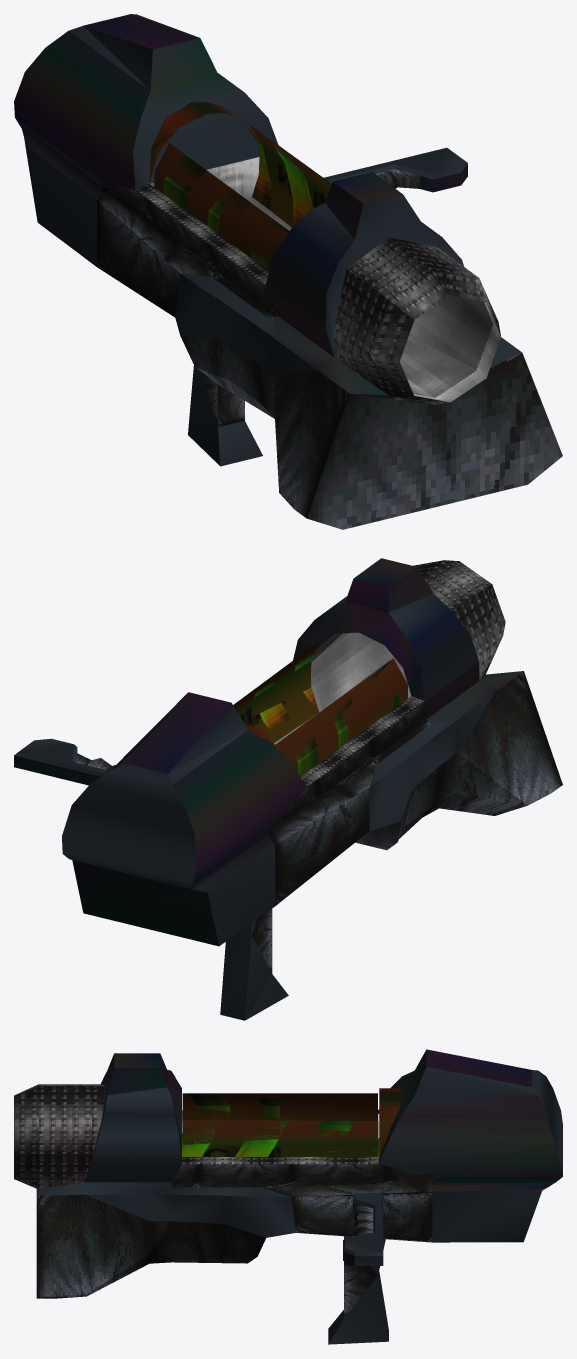
File: 17-rocket-launcher-fp.glb
The picture shows the model from 3 angles, top to bottom: view 1: azimuth 30°, elevation 25°; view 2: azimuth 150°, elevation 25°; view 3: azimuth 270°, elevation 25°; orthographic projection. The views are drawn at different scales.
Visible parts, largest first — view 1: gun; view 2: gun; view 3: gun.
Part boxes in pixels (bbox=[...]): gun: bbox=[14, 14, 562, 529]; gun: bbox=[14, 558, 562, 1020]; gun: bbox=[14, 1049, 562, 1344].
Bounding box in the file's own units: 397 × 376 × 672.
8 materials, 8 textured.
